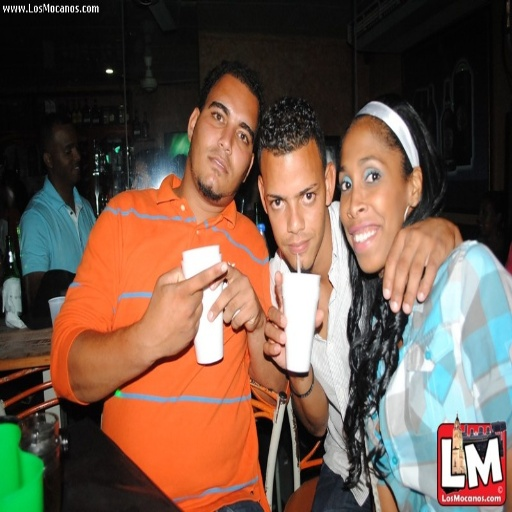hand: (145, 259, 227, 359), (388, 210, 464, 315), (260, 268, 325, 375), (206, 260, 263, 335)
